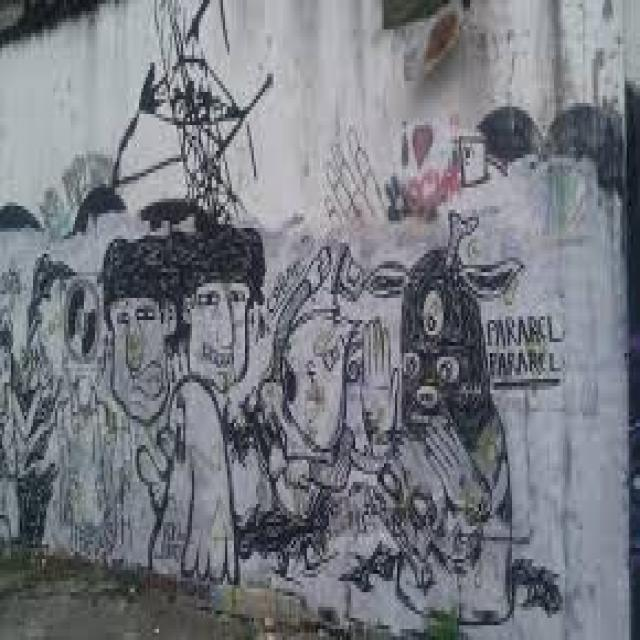-: (2, 179, 566, 629), (321, 103, 628, 220), (116, 0, 275, 176)
